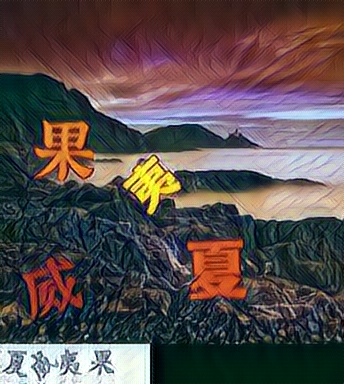B9FB: (31, 119, 96, 184)
CDFE: (21, 256, 86, 321)
CFC4: (185, 237, 250, 302)
D2C4: (119, 153, 184, 218)
